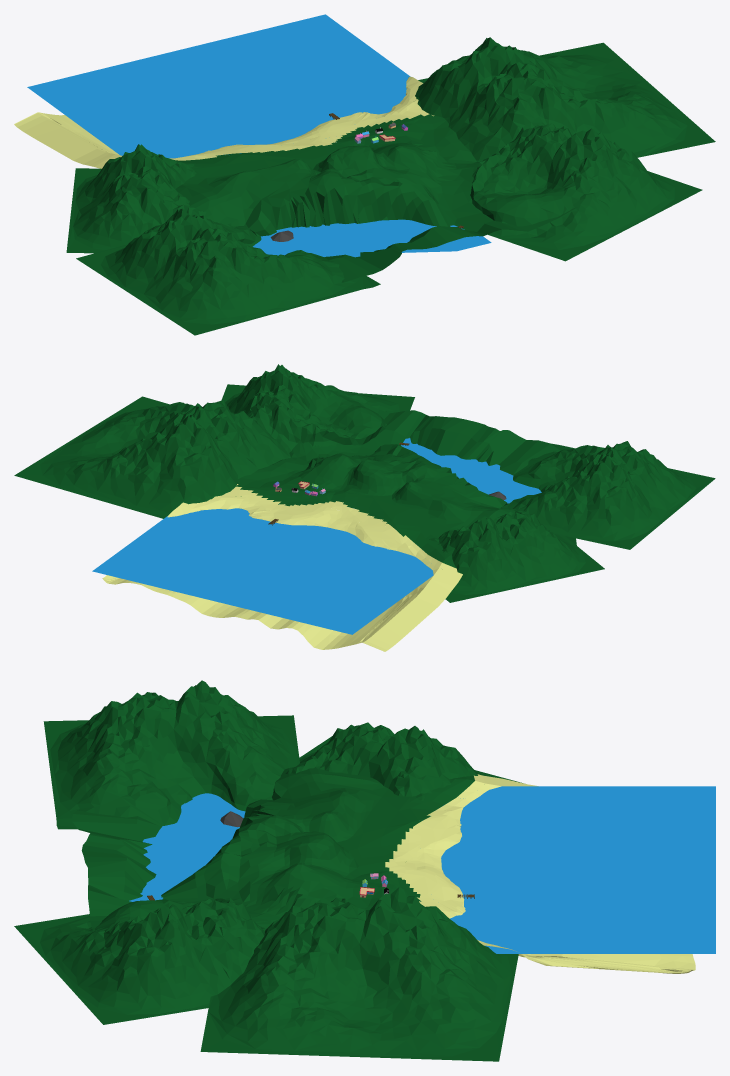
Rendered from Map.fbx.
3 renders of one model, top to bottom at view 1: azimuth 30°, elevation 25°; view 2: azimuth 150°, elevation 25°; view 3: azimuth 270°, elevation 25°, orthographic. The views are drawn at different scales.
Visible parts, largest first — view 1: wata, land.002, Landscape, Landscape.004, Landscape.001, Landscape.003, land.001, Plane; view 2: wata, land.002, Landscape, Landscape.004, land.001, Landscape.001, Landscape.003, Plane; view 3: wata, Landscape, land.002, Landscape.004, Landscape.001, land.001, Landscape.003, Plane.
Boxes of the visible parts, x1,y1,x2,y2 form: wata: (27,14,410,158); land.002: (175,114,576,282); Landscape: (415,37,715,161); Landscape.004: (76,208,380,335); Landscape.001: (470,123,702,261); Landscape.003: (66,144,206,253); land.001: (14,76,434,168); Plane: (253,219,491,257); wata: (92,508,433,634); land.002: (236,394,576,568); Landscape: (14,396,290,518); Landscape.004: (500,441,715,549); land.001: (102,484,462,651); Landscape.001: (221,364,414,452); Landscape.003: (429,510,604,602); Plane: (401,438,541,503); wata: (441,786,715,953); Landscape: (200,887,518,1061); land.002: (72,766,474,931); Landscape.004: (43,680,299,829); Landscape.001: (14,897,265,1024); land.001: (385,774,695,973); Landscape.003: (285,722,522,844); Plane: (129,793,245,901).
Bounding box in the file's own units: 68558 × 12478 × 58743.
